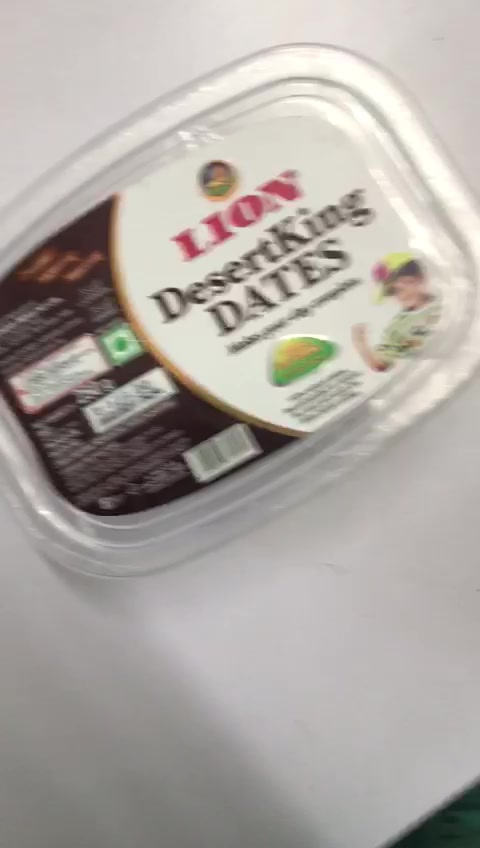Lion dates: (2, 37, 479, 579)
